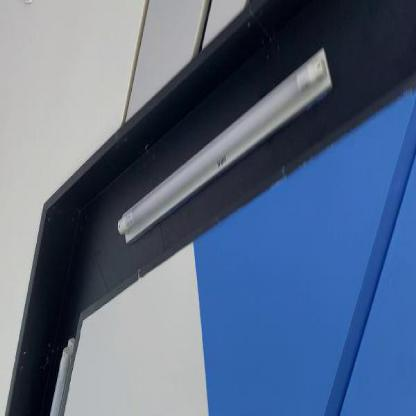light_off: (115, 42, 336, 250), (42, 321, 83, 415)
